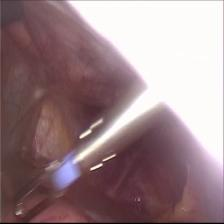Bipolar: (13, 111, 112, 224)
